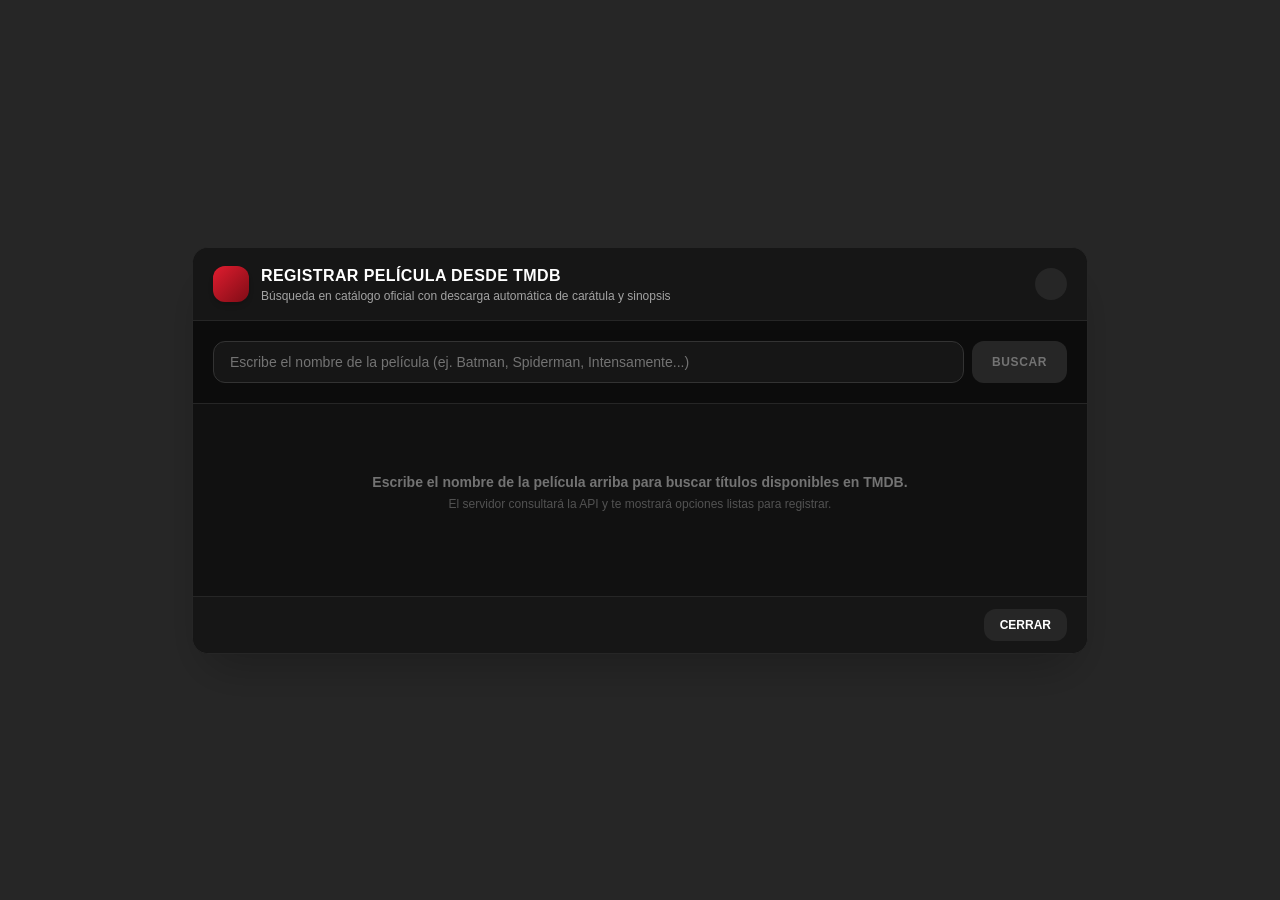
Scenario: TmdbRegisterModal › busca películas en TMDB y muestra los resultados
Replace the text in the field with placeholder "Escribe el nombre de la película" with "Batman". click: (589, 362)
box: left=213, top=340, right=964, bottom=382
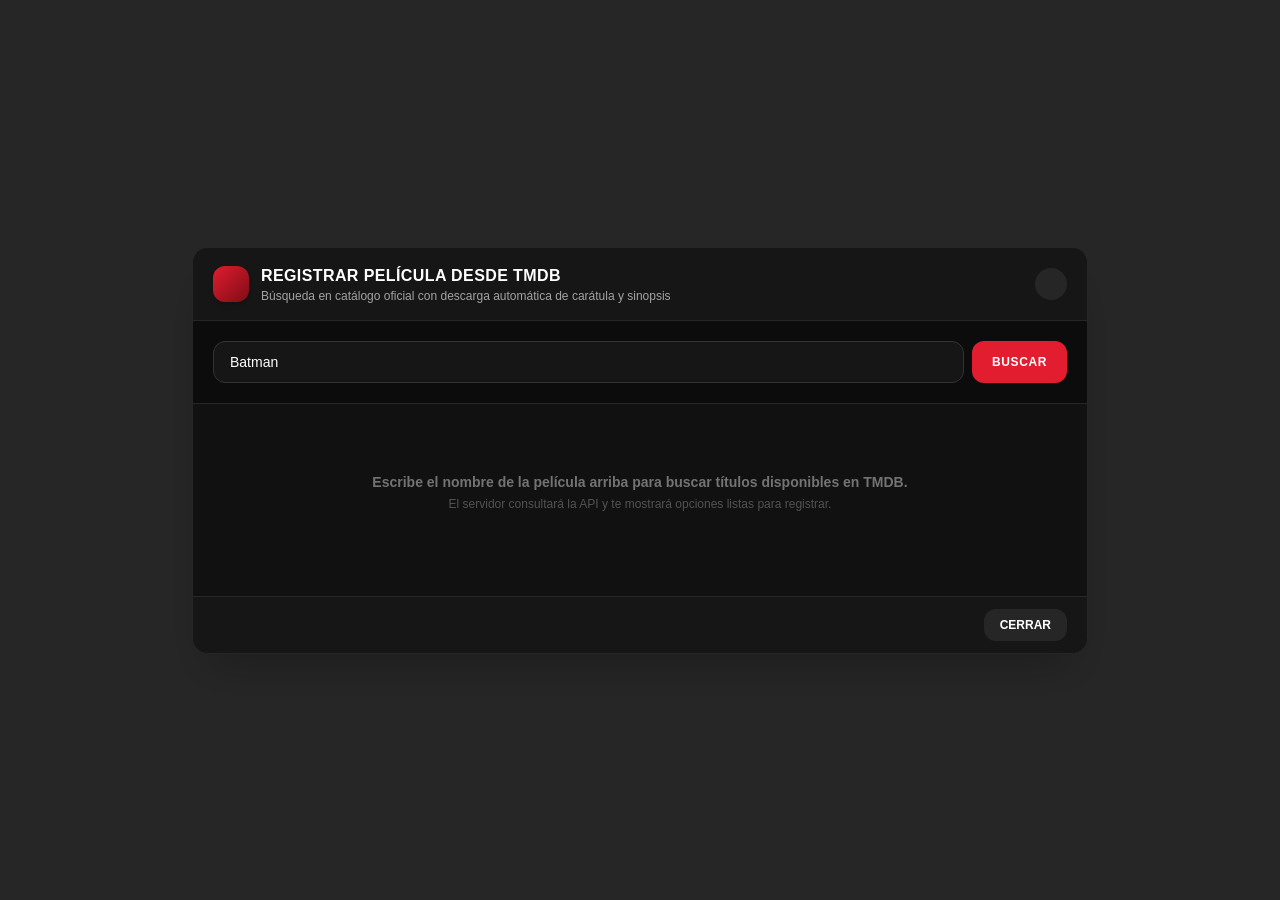
Click the button "Buscar". click: (1020, 362)
box: left=972, top=340, right=1067, bottom=382
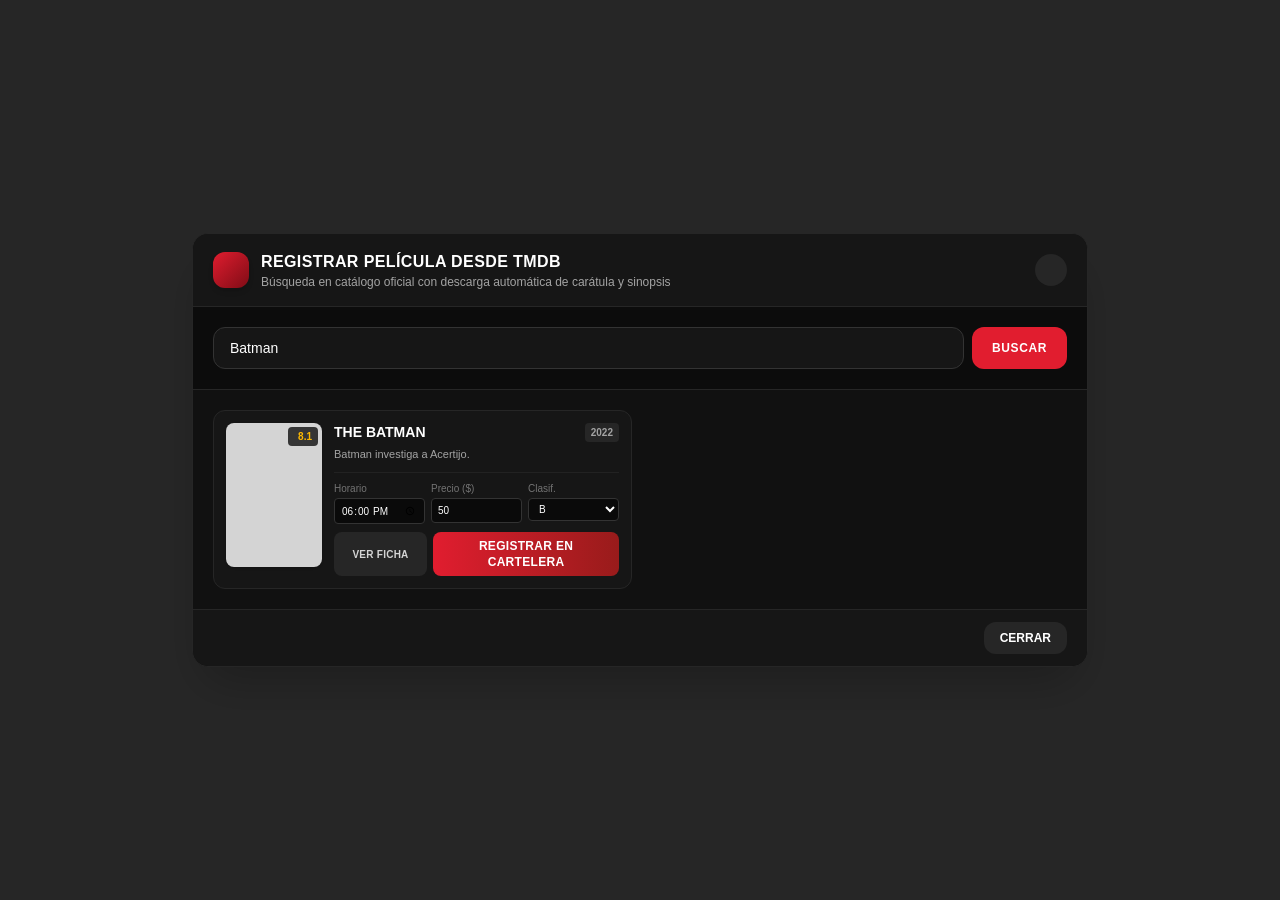
Expected: the heading "The Batman" is shown, left=334, top=423, right=426, bottom=442
Expected: the text "Batman investiga a Acertijo." is shown, left=334, top=448, right=470, bottom=460
